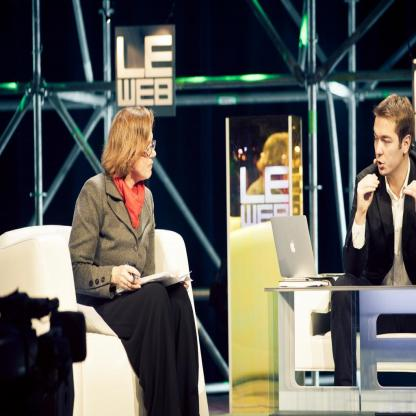board: (271, 214, 344, 280)
